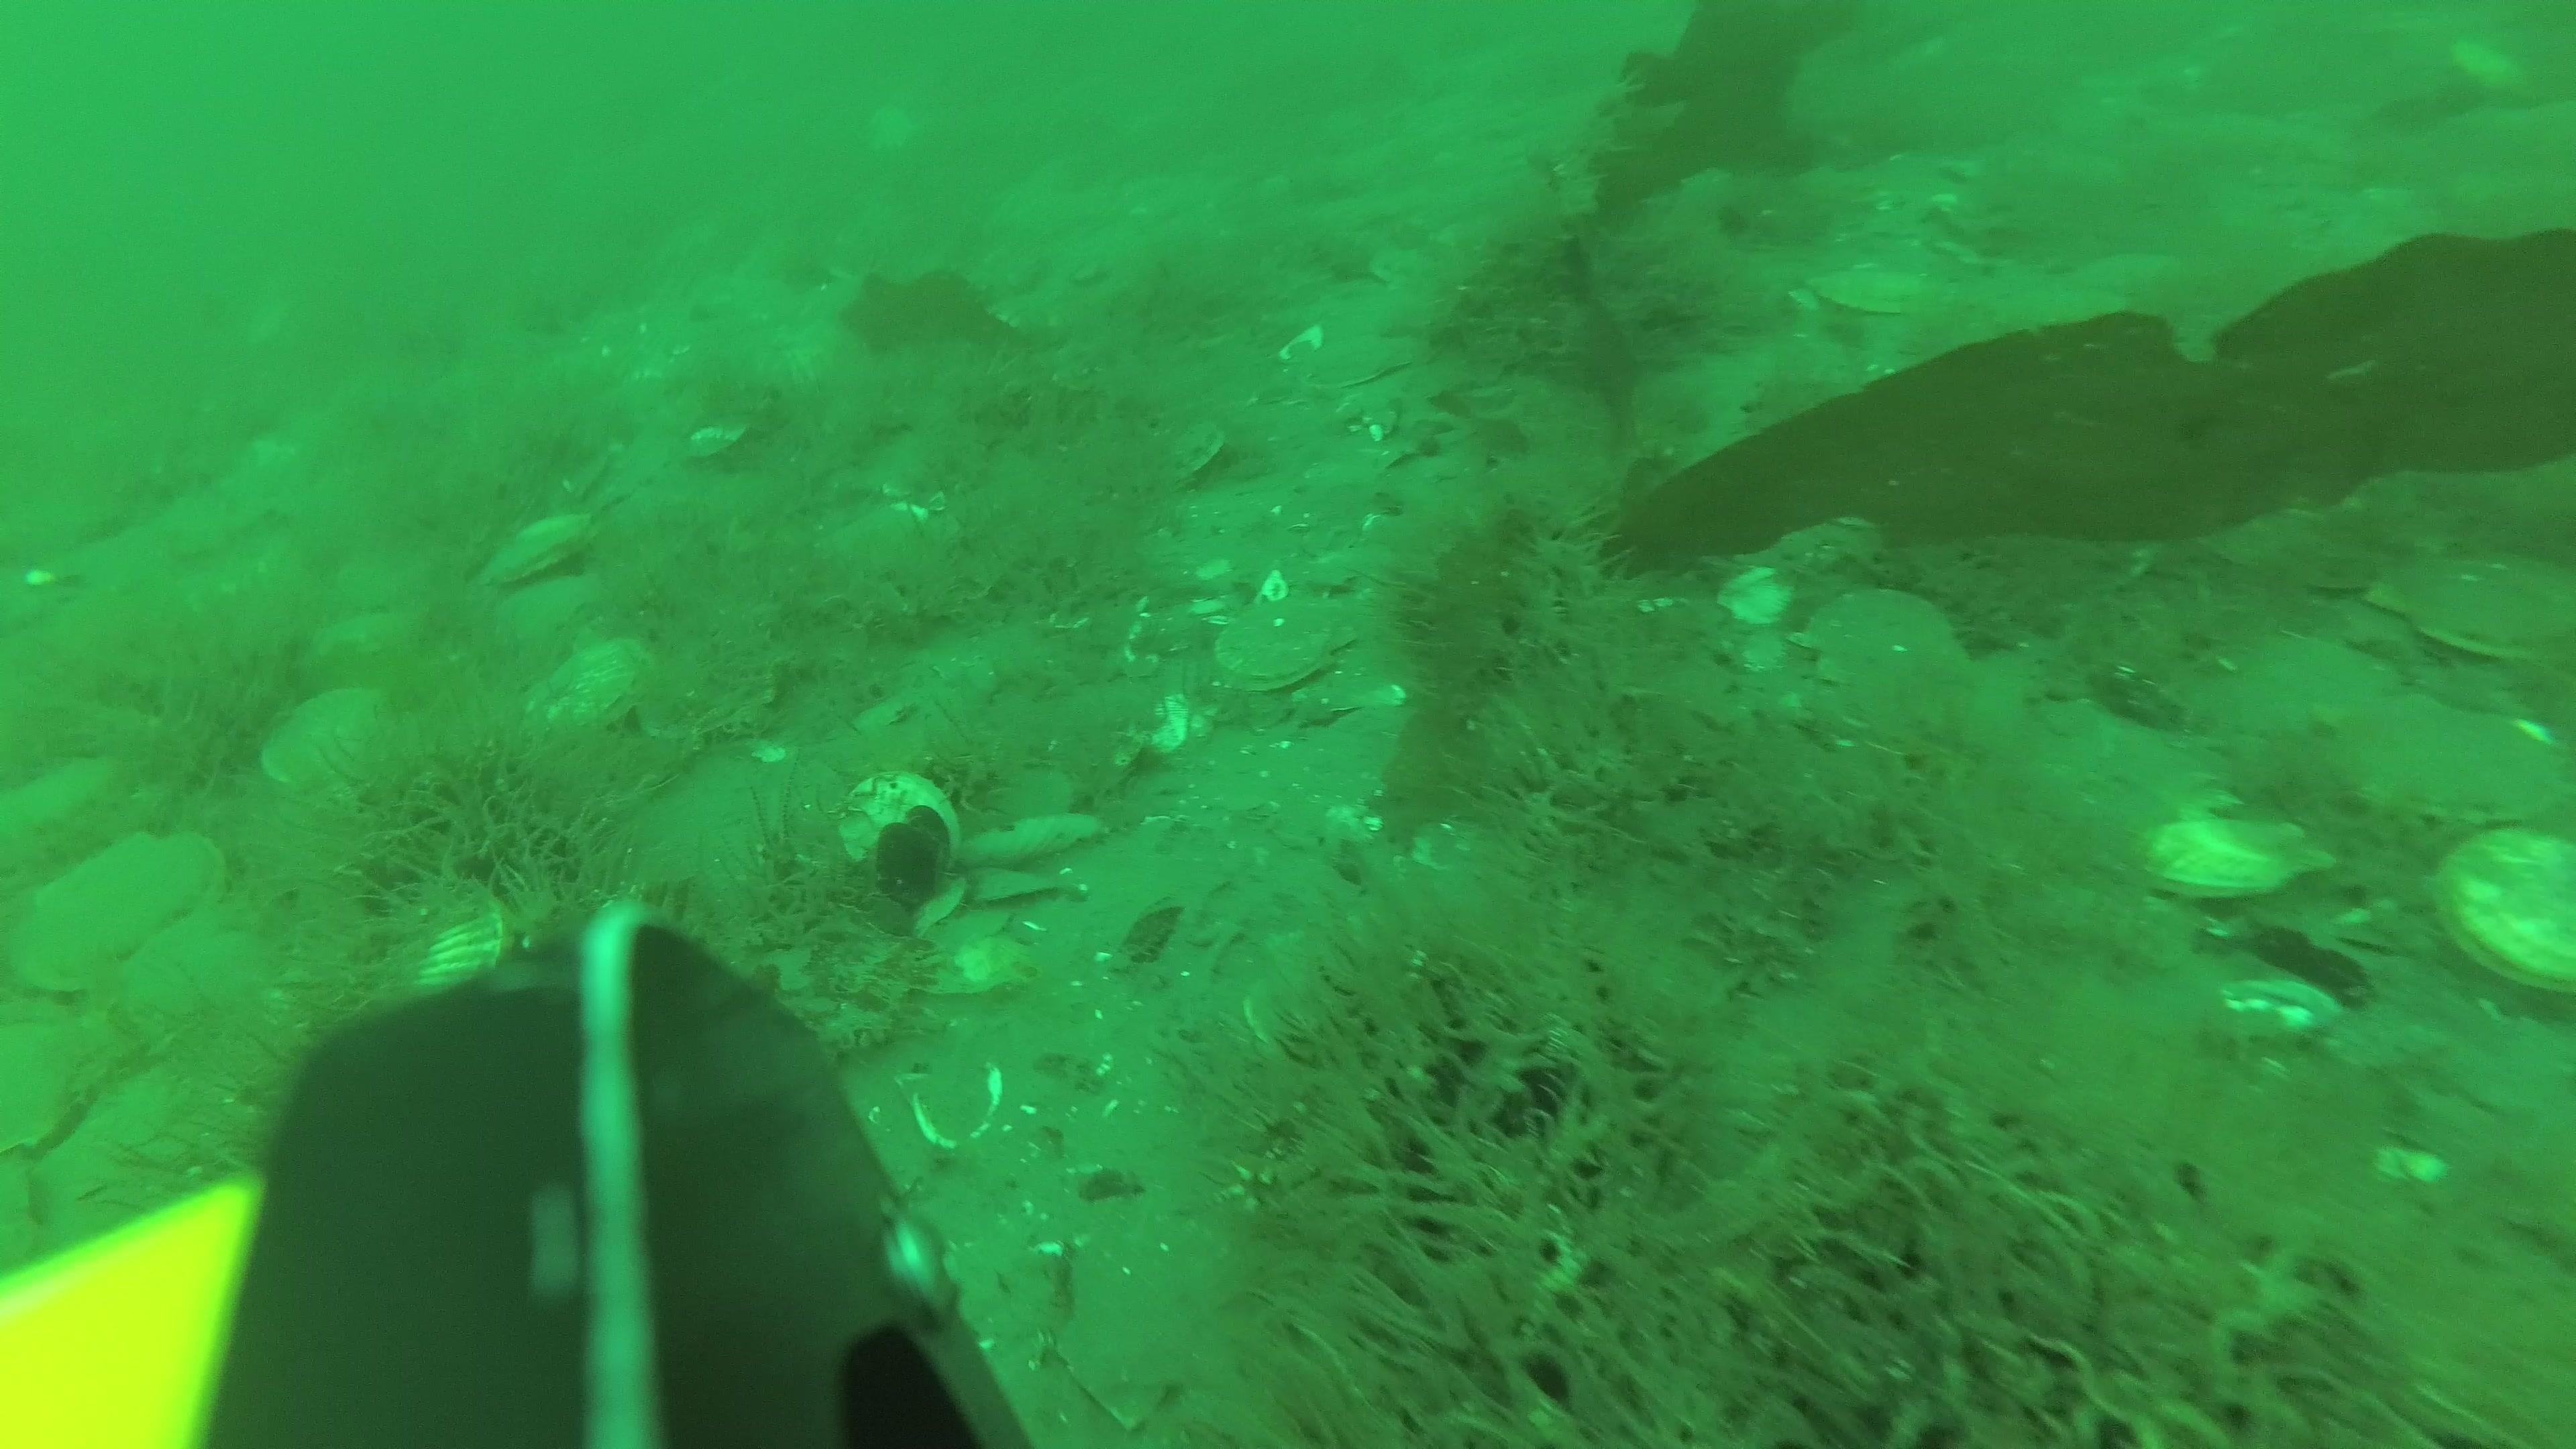scallop: (9, 819, 218, 993), (2334, 683, 2558, 819), (2438, 830, 2576, 1010), (133, 909, 280, 1049), (2401, 547, 2576, 662), (2183, 630, 2371, 732), (2139, 819, 2325, 913), (1803, 582, 1953, 694), (372, 878, 506, 998), (839, 773, 964, 886), (271, 683, 395, 796), (1215, 600, 1352, 701), (5, 1016, 96, 1154), (531, 640, 651, 736), (1295, 327, 1417, 398), (494, 518, 603, 593)
